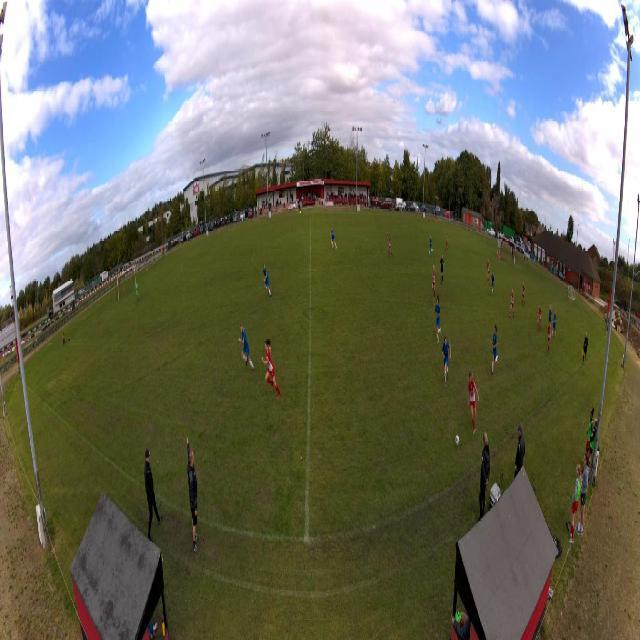ball: (455, 435, 460, 447)
player: (261, 337, 282, 402), (238, 324, 255, 376), (467, 370, 480, 437), (441, 335, 451, 389), (490, 324, 499, 376), (434, 295, 442, 345), (261, 263, 272, 299), (330, 225, 338, 250), (509, 288, 515, 320), (551, 309, 557, 341), (547, 321, 552, 356), (432, 264, 437, 298), (440, 252, 445, 286), (387, 232, 393, 259), (537, 303, 542, 332), (485, 257, 490, 285), (428, 234, 433, 258), (135, 280, 140, 304), (491, 269, 495, 298), (522, 281, 526, 308), (445, 233, 450, 254), (549, 305, 553, 326), (498, 248, 501, 266)
